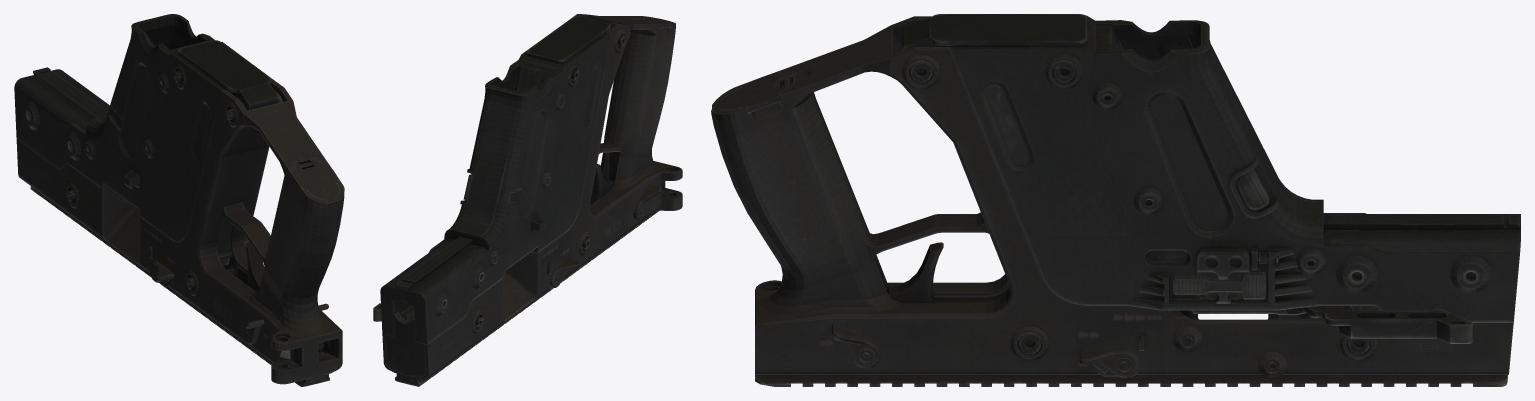
The picture shows the model from 3 angles, left to right: view 1: azimuth 30°, elevation 25°; view 2: azimuth 150°, elevation 25°; view 3: azimuth 270°, elevation 25°; orthographic projection. The views are drawn at different scales.
Parts seen in each view (by area): view 1: TW_5fb64bc92b1b027b1f50bcf2_PZ_Import; view 2: TW_5fb64bc92b1b027b1f50bcf2_PZ_Import; view 3: TW_5fb64bc92b1b027b1f50bcf2_PZ_Import.
Part boxes in pixels (x1,y1,x2,y2): TW_5fb64bc92b1b027b1f50bcf2_PZ_Import: (14, 14, 344, 386); TW_5fb64bc92b1b027b1f50bcf2_PZ_Import: (373, 14, 682, 386); TW_5fb64bc92b1b027b1f50bcf2_PZ_Import: (711, 14, 1520, 386).
Bounding box in the file's own units: 0.0381 × 0.2097 × 0.1004.
1 material, 1 textured.
